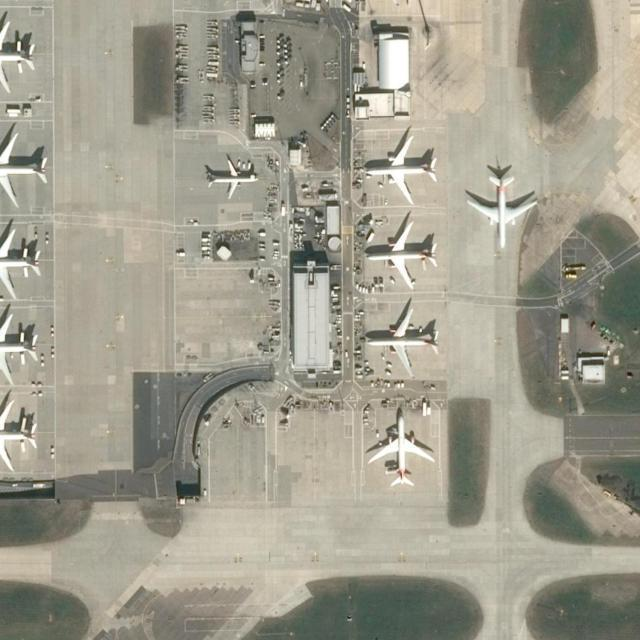Aircraft: (463, 170, 537, 252), (358, 305, 442, 376), (365, 409, 438, 490), (357, 135, 441, 203), (363, 220, 442, 288), (0, 127, 47, 208), (0, 228, 42, 300), (0, 17, 39, 90), (0, 401, 40, 471), (0, 314, 39, 379), (206, 158, 260, 196)
